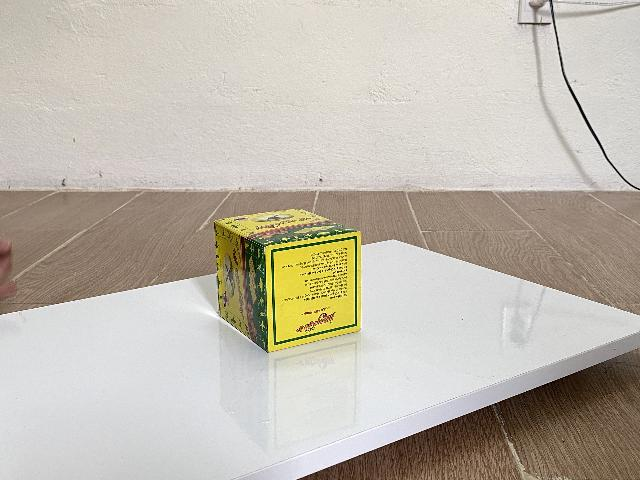luong_kho: (214, 209, 362, 354)
